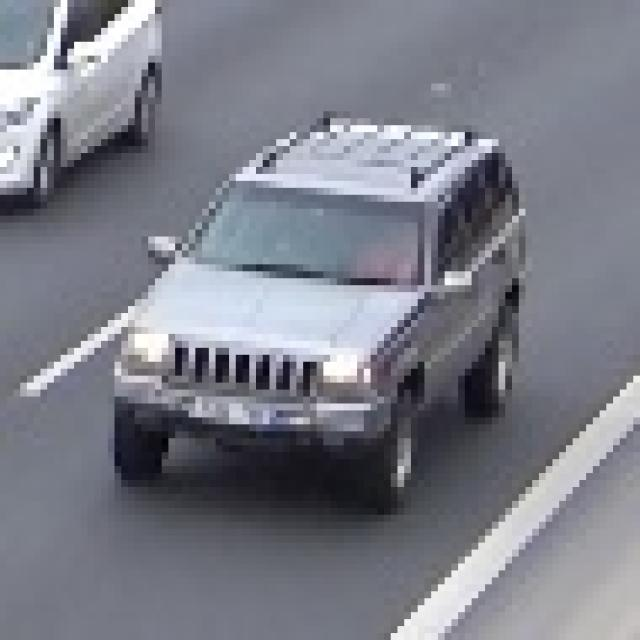SUV: (124, 128, 508, 483)
